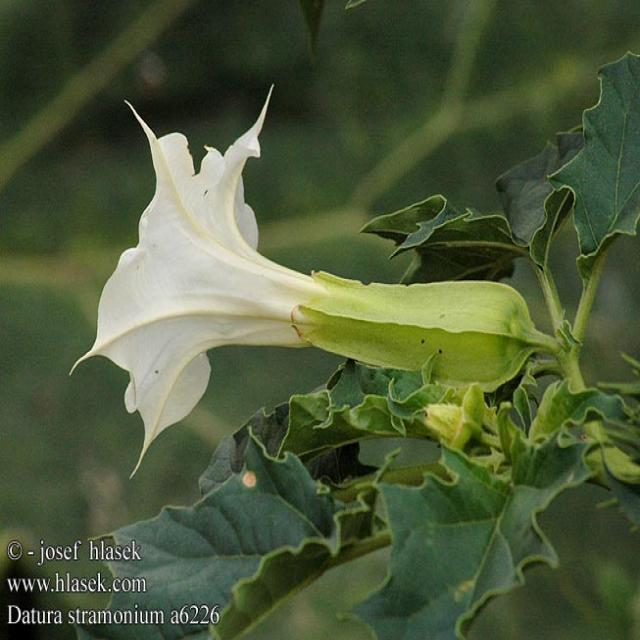Poisonous-Datura_Stramonium: (25, 126, 578, 473), (203, 363, 640, 640)
